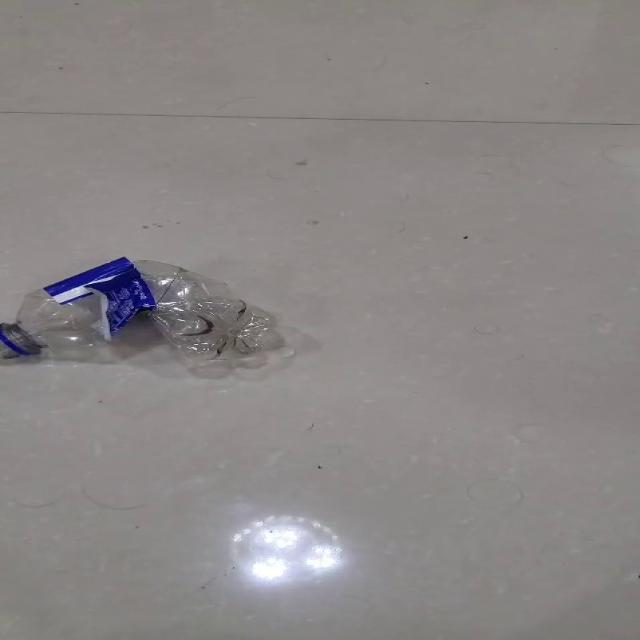plastic: (2, 256, 290, 373)
